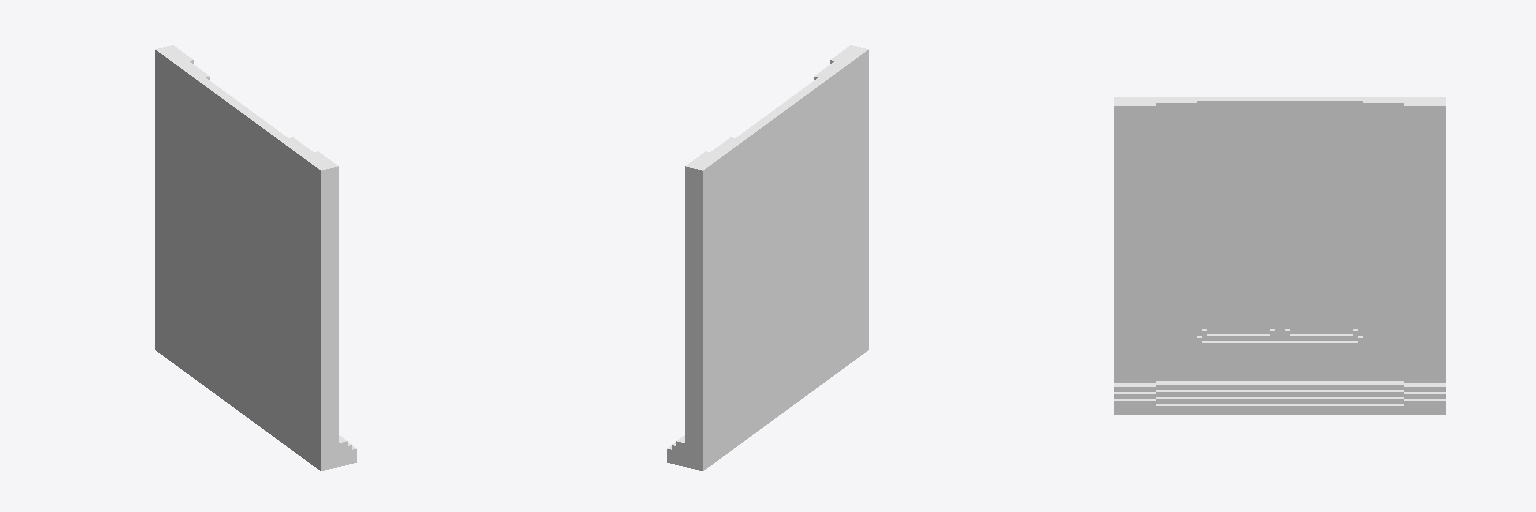
Rendered from old_brick_peach_wall_b.obj.
3 renders of one model, left to right at view 1: azimuth 30°, elevation 25°; view 2: azimuth 150°, elevation 25°; view 3: azimuth 270°, elevation 25°, orthographic.
Size of the model in its own units: 8 by 64 by 64.